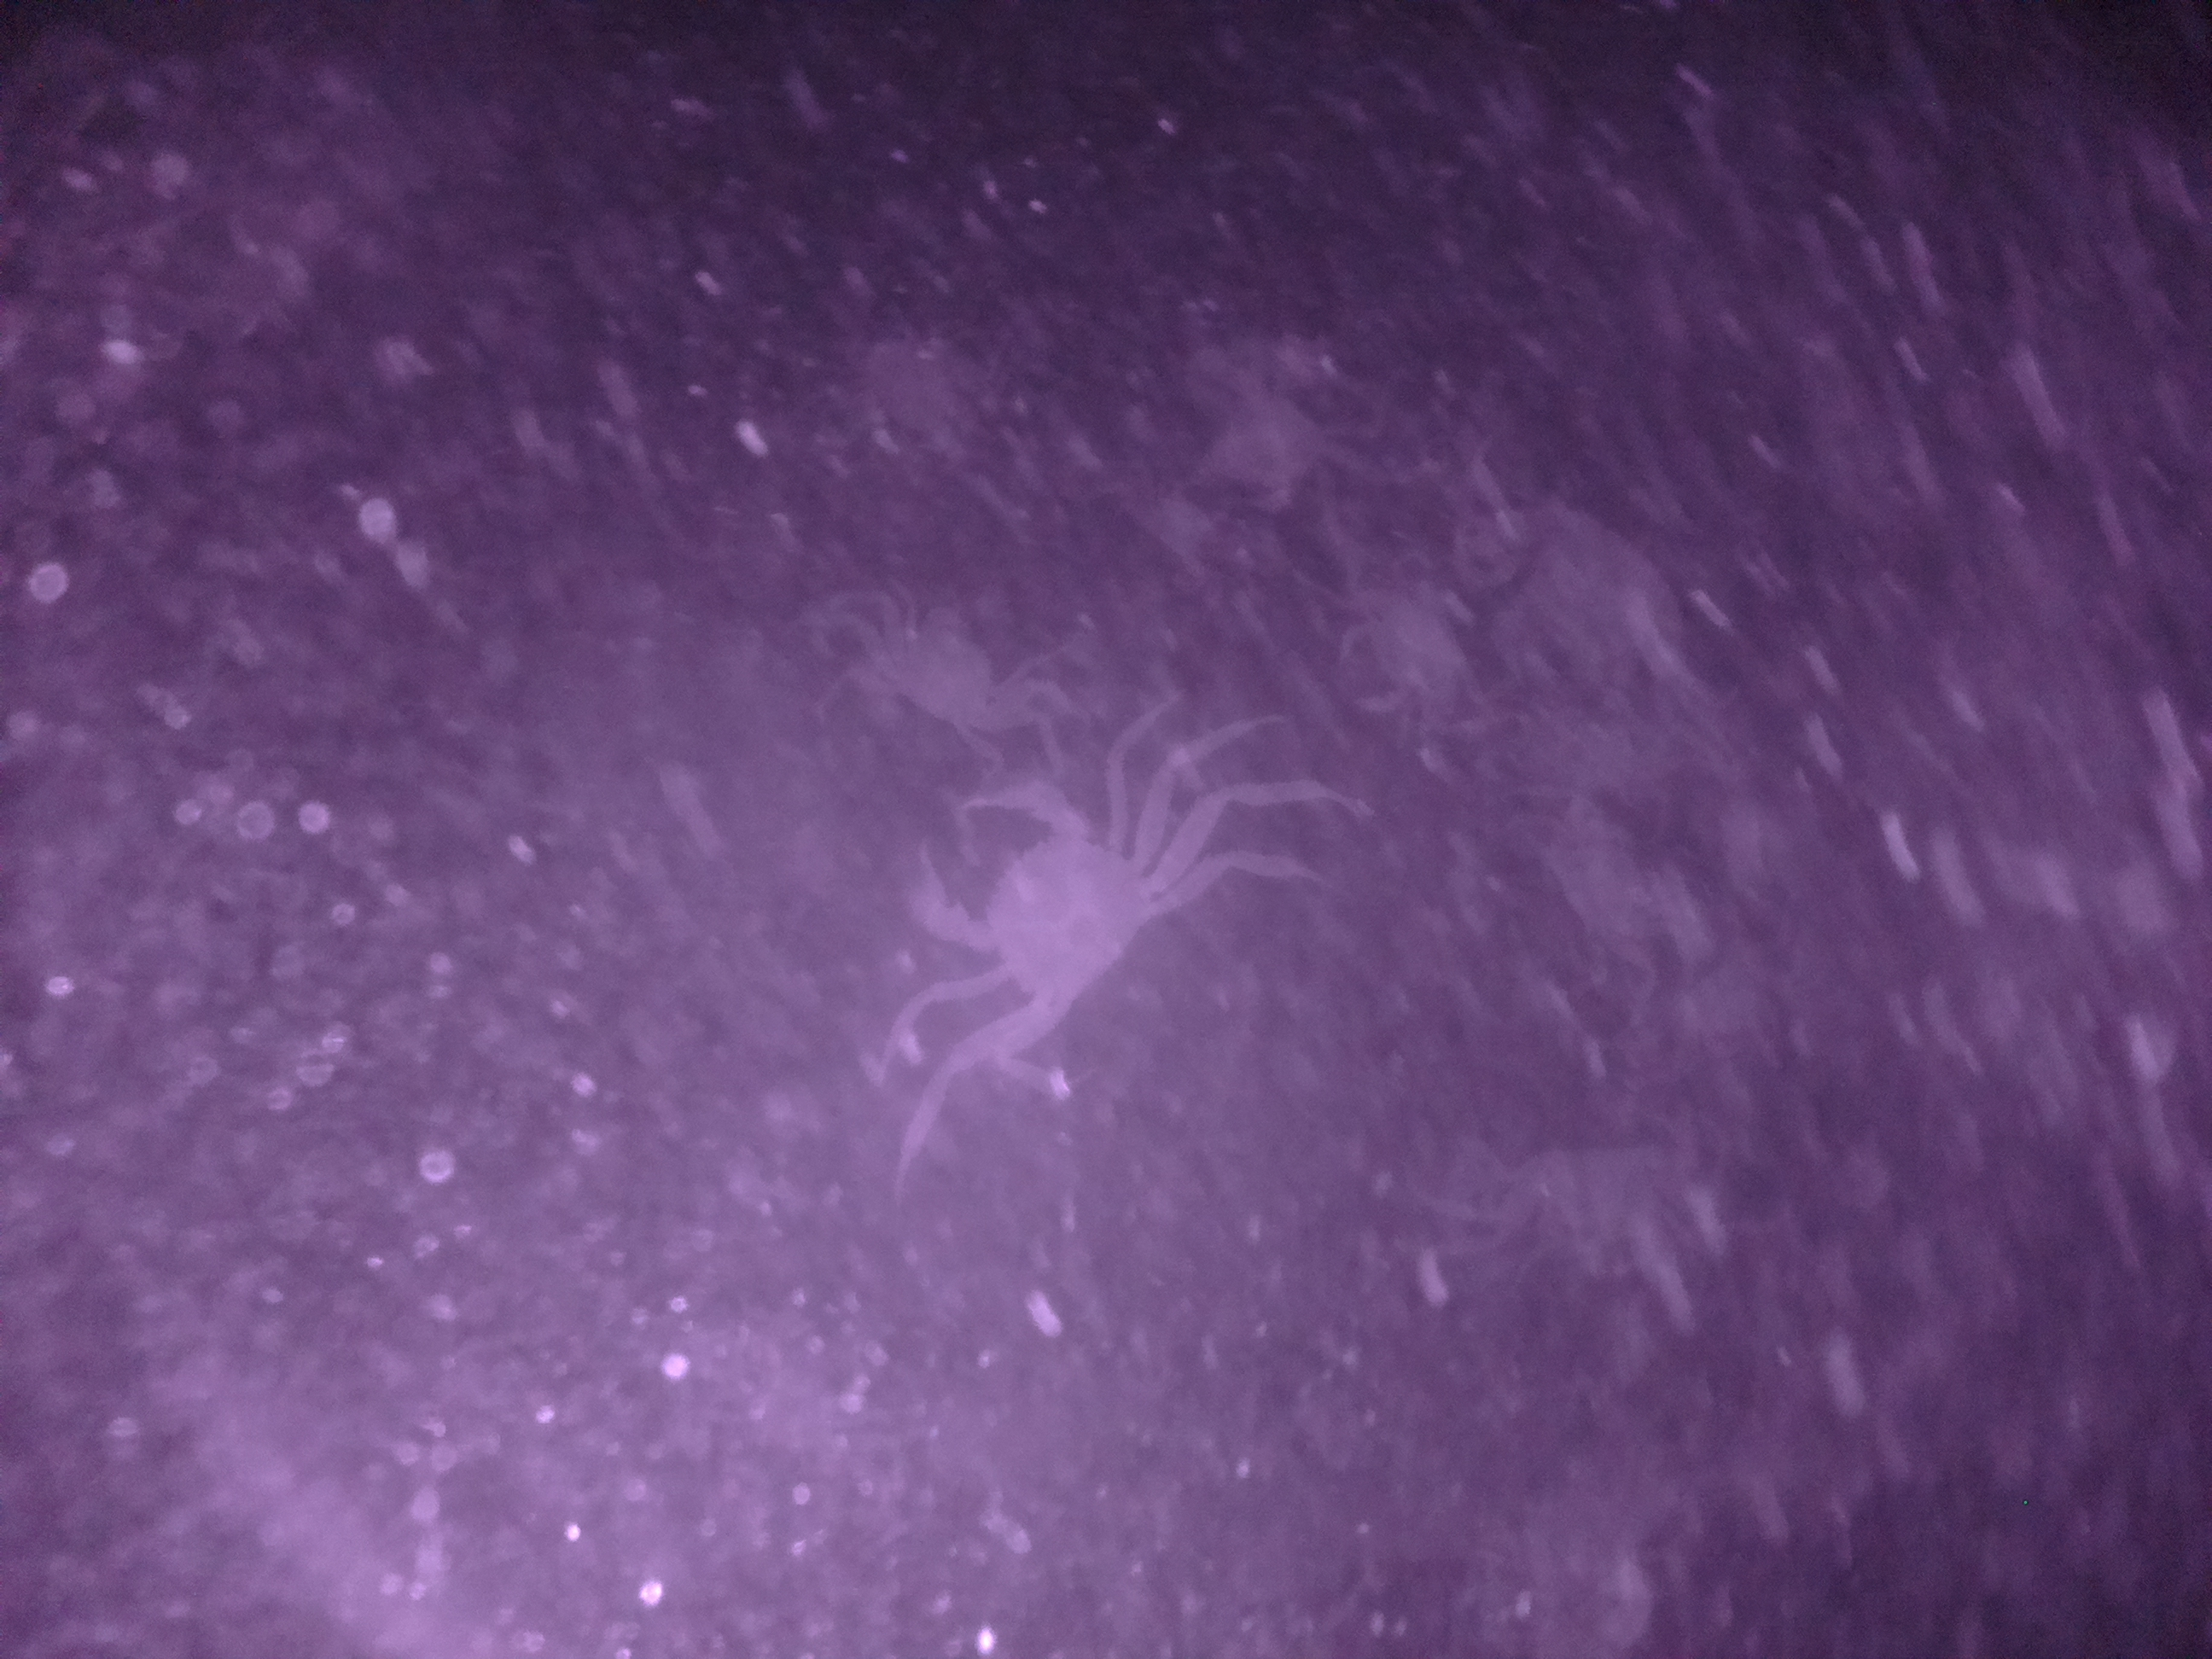Crab: (873, 765, 1217, 1044), (848, 591, 1066, 770)
